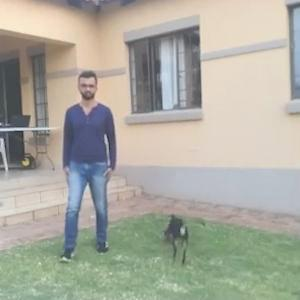follow: (58, 69, 119, 258)
